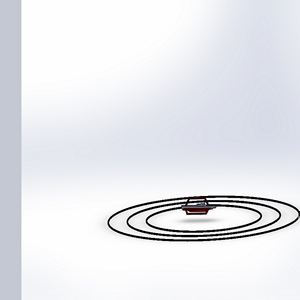circle: (96, 182, 300, 249)
submarine: (179, 193, 218, 223)
